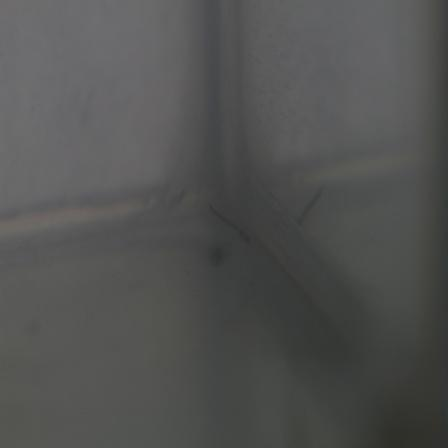Jentik-Nyamuk: (209, 206, 255, 245)
